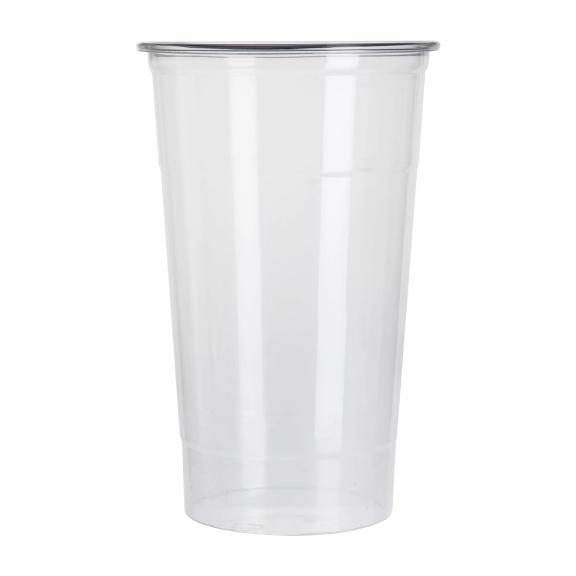Plastik: (139, 43, 437, 534)
